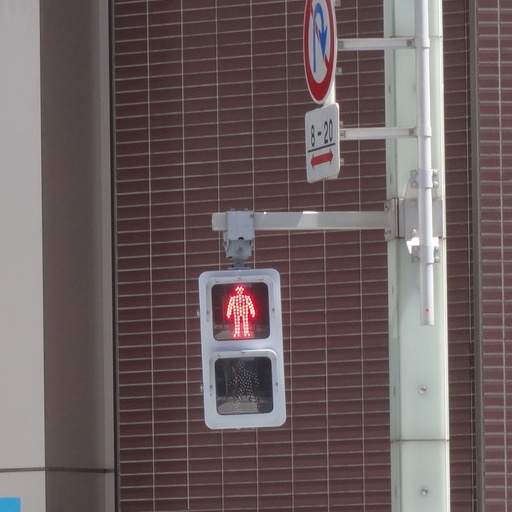Pedestrian_Signal_Red: (197, 258, 283, 432)
